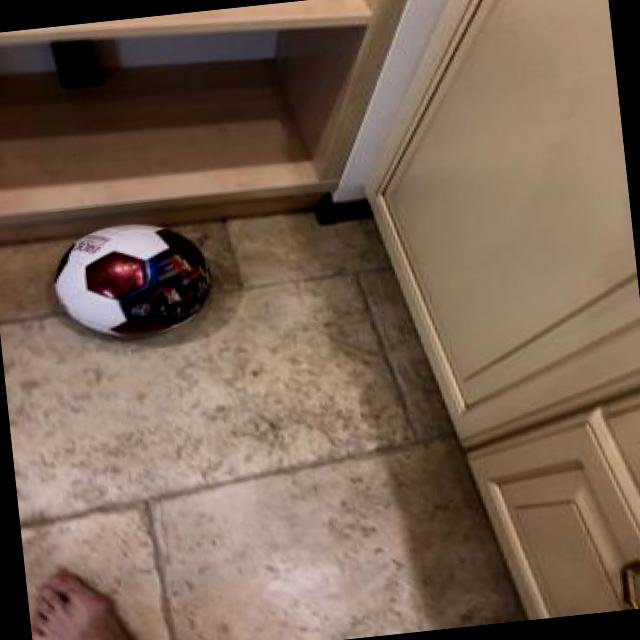Soccer Ball: (48, 209, 220, 344)
